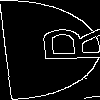R: (24, 25, 100, 64)
